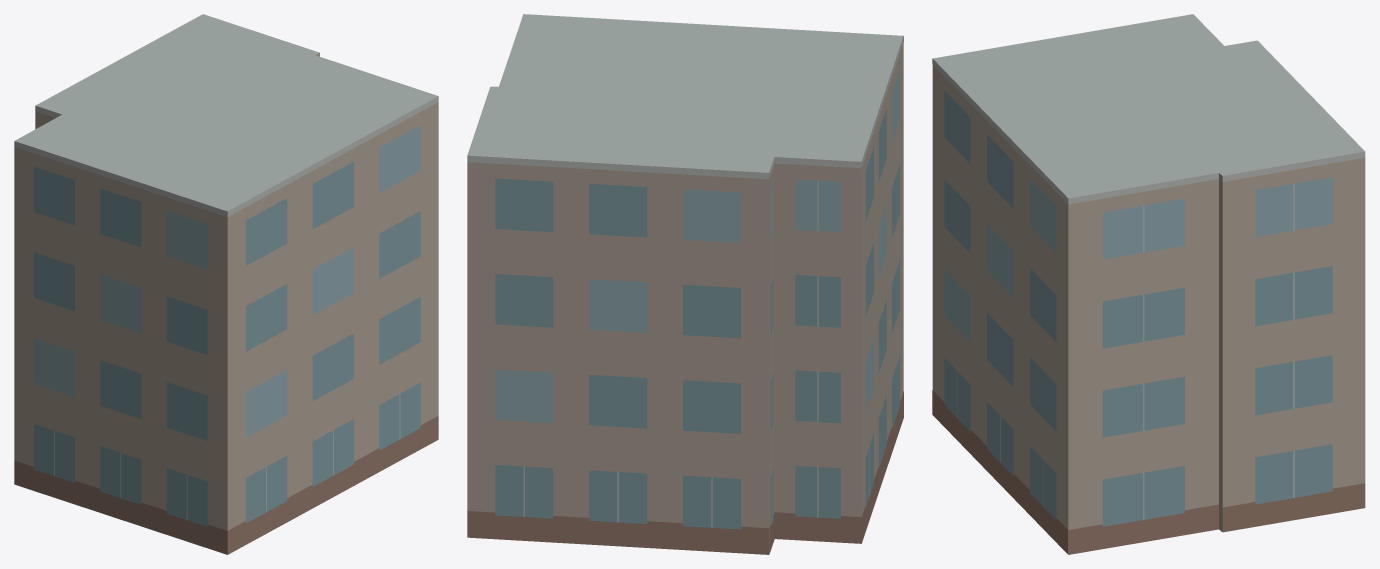
Rendered from survey-upis-32853768.glb.
The picture shows the model from 3 angles, left to right: view 1: azimuth 30°, elevation 25°; view 2: azimuth 150°, elevation 25°; view 3: azimuth 270°, elevation 25°; orthographic projection. The views are drawn at different scales.
Parts seen in each view (by area): view 1: survey-upis-32853768.tmp; view 2: survey-upis-32853768.tmp; view 3: survey-upis-32853768.tmp.
Boxes of the visible parts, bbox=[...] form: survey-upis-32853768.tmp: bbox=[14, 14, 438, 554]; survey-upis-32853768.tmp: bbox=[467, 14, 903, 554]; survey-upis-32853768.tmp: bbox=[932, 14, 1365, 554].
Bounding box in the file's own units: 16 × 14.4 × 15.86.
